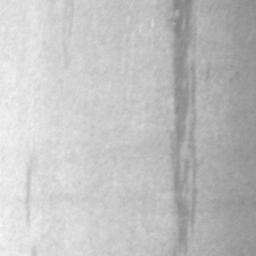Inclusion: (173, 0, 195, 247)
